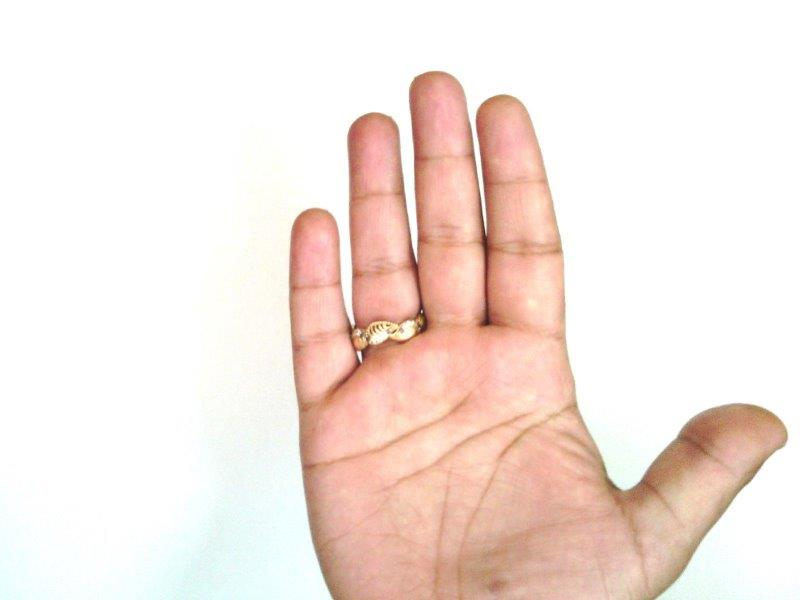hand: (291, 71, 788, 596)
